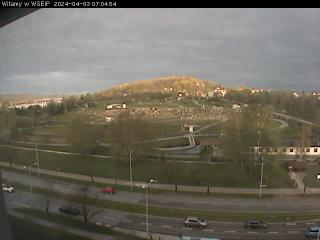car: (183, 215, 207, 229), (244, 218, 266, 230), (58, 204, 80, 216), (305, 225, 320, 238), (0, 183, 16, 194), (99, 185, 115, 195)
